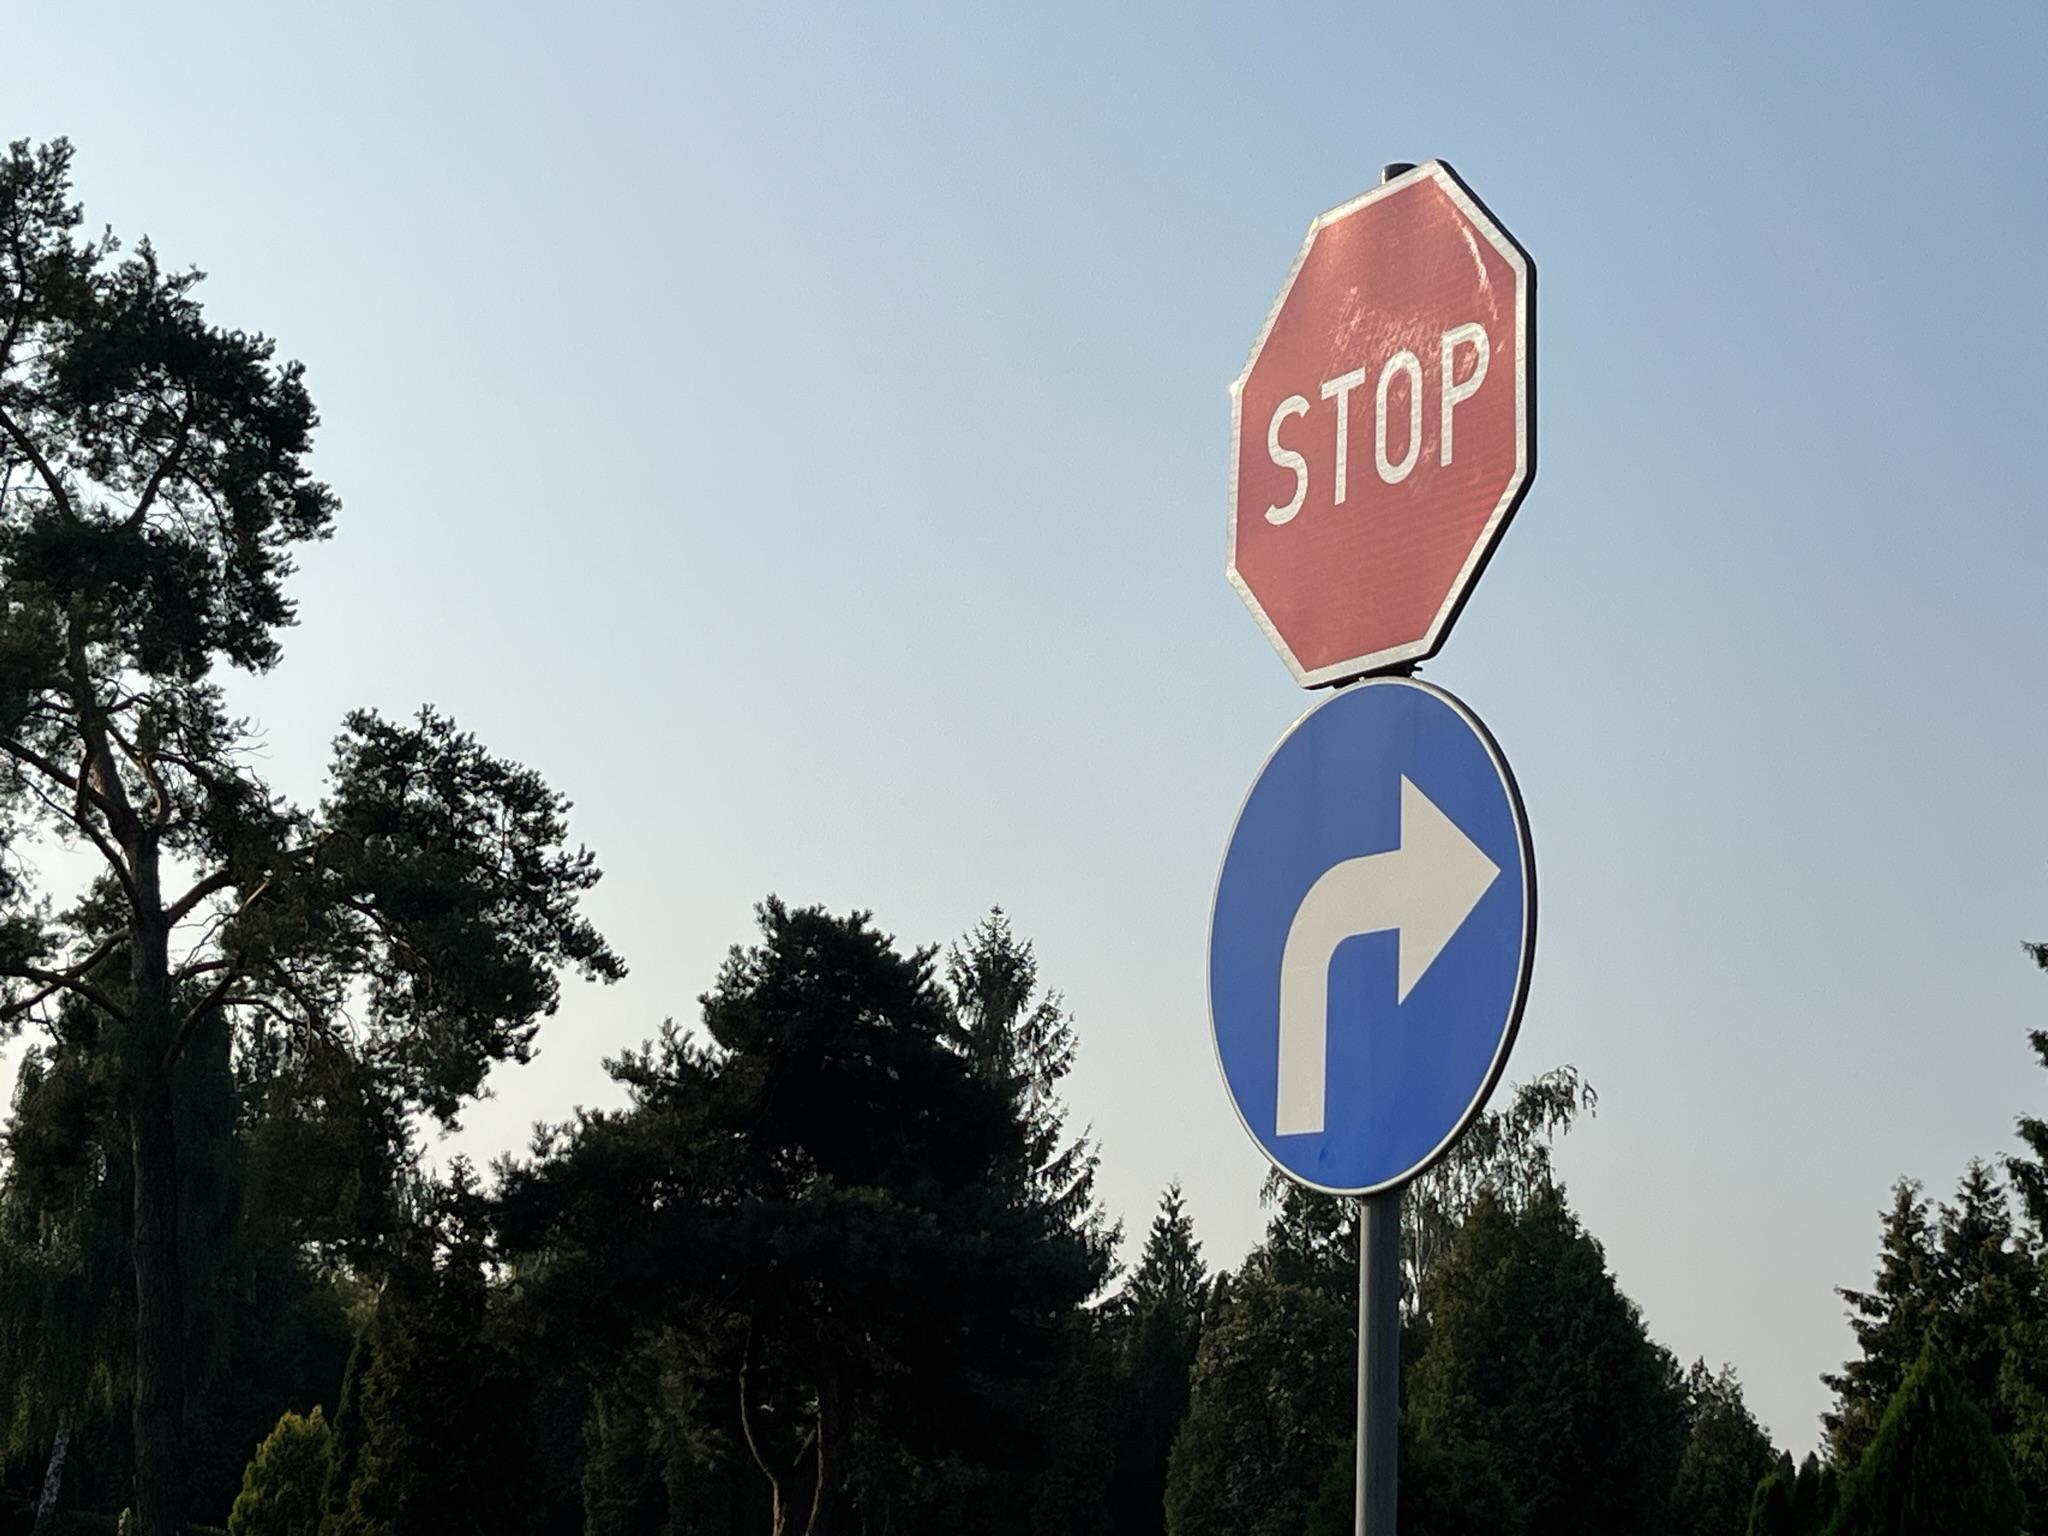mandatory: (1206, 676, 1535, 1202)
prohibitory: (1226, 160, 1538, 687)
